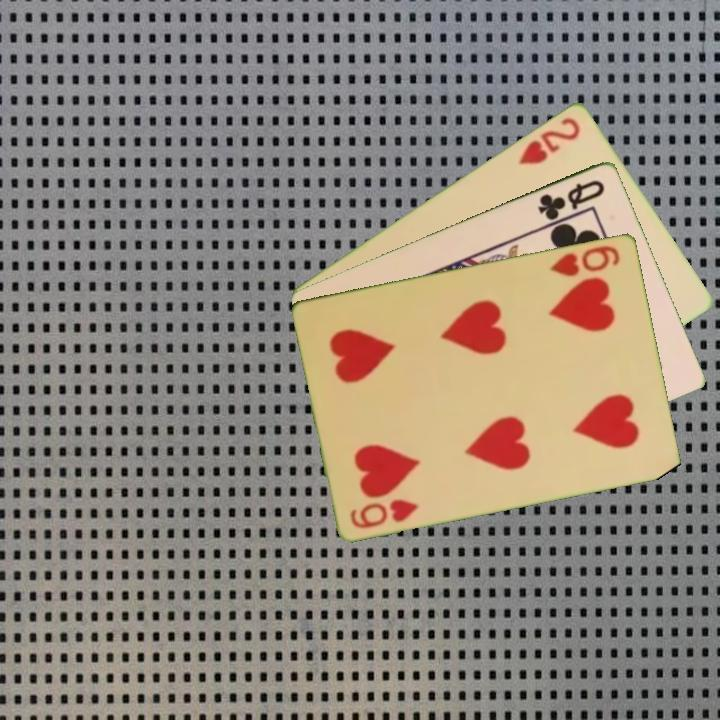2h: (515, 113, 583, 167)
6h: (547, 241, 624, 279), (347, 495, 422, 531)
Qc: (534, 175, 608, 223)
